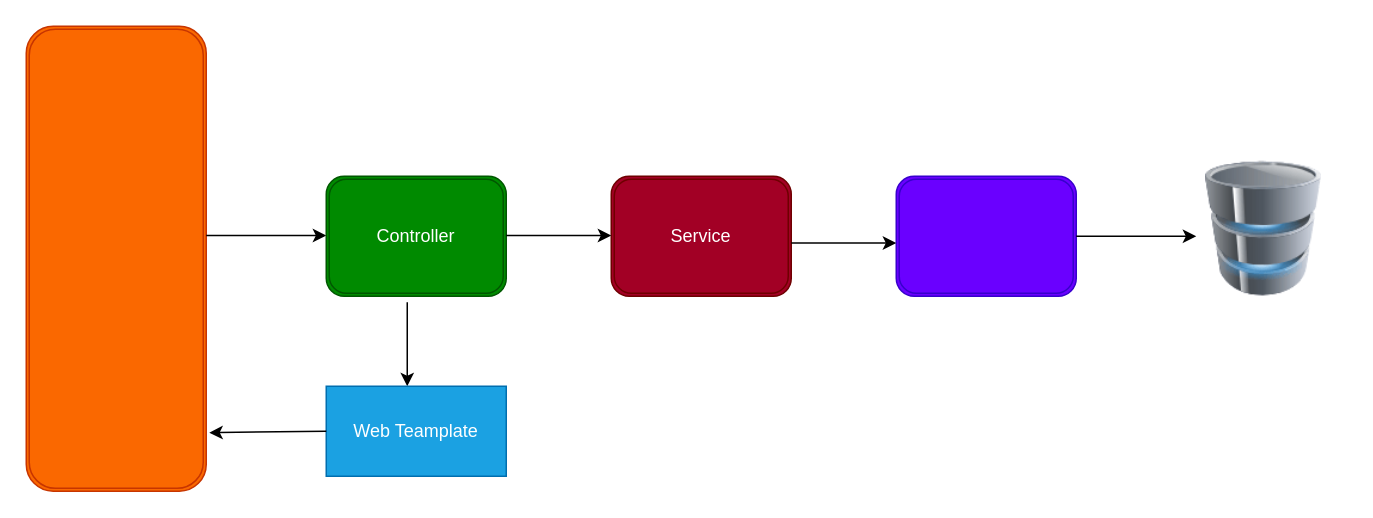
Some shapes in this 1373 by 518 pixel diagram are drawn without their labels. Here are the shapes that lost their labels. From the top down, the centre of each, then its label:
At point (985, 235): "Repository".
At point (115, 258): "WEB BROWSER".
